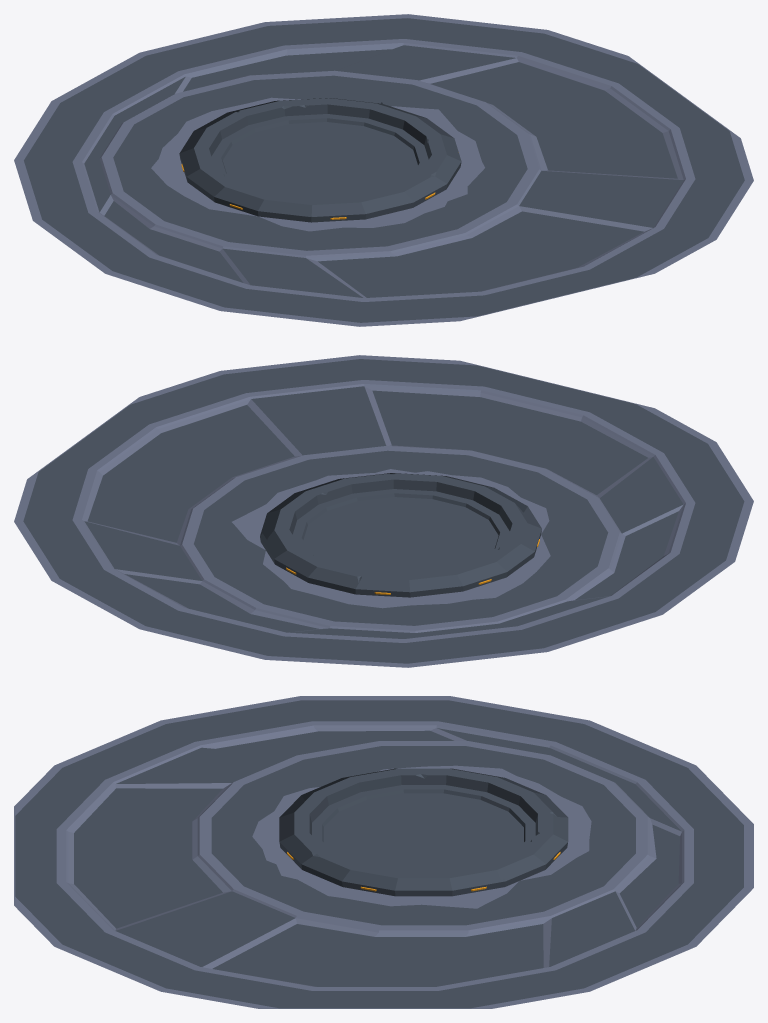
File: RoundFloor.FBX
3 renders of one model, top to bottom at view 1: azimuth 30°, elevation 25°; view 2: azimuth 150°, elevation 25°; view 3: azimuth 270°, elevation 25°, orthographic. The views are drawn at different scales.
Parts seen in each view (by area): view 1: SM_Bld_Hydroponics_BaseFloor_01; view 2: SM_Bld_Hydroponics_BaseFloor_01; view 3: SM_Bld_Hydroponics_BaseFloor_01.
Part boxes in pixels (<box>): SM_Bld_Hydroponics_BaseFloor_01: <box>14,14,753,326</box>; SM_Bld_Hydroponics_BaseFloor_01: <box>14,355,753,667</box>; SM_Bld_Hydroponics_BaseFloor_01: <box>14,696,753,1008</box>.
Bounding box in the file's own units: 58.62 × 1.37 × 58.61.
